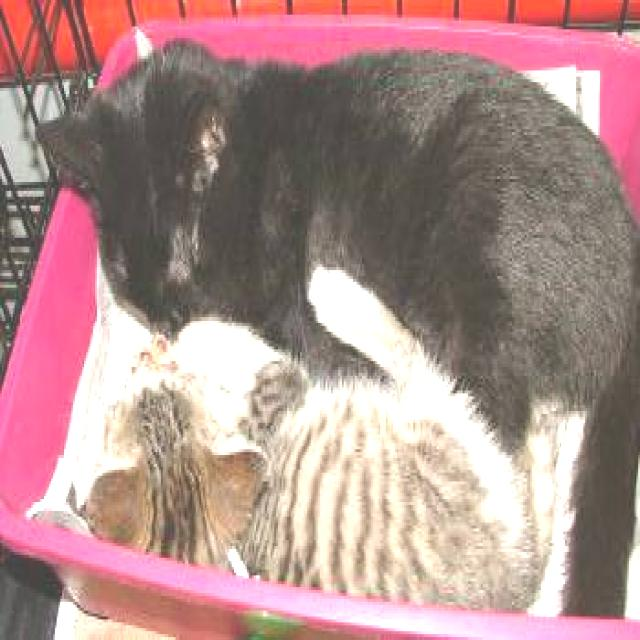Kucing: (21, 21, 640, 316), (78, 338, 611, 623)
